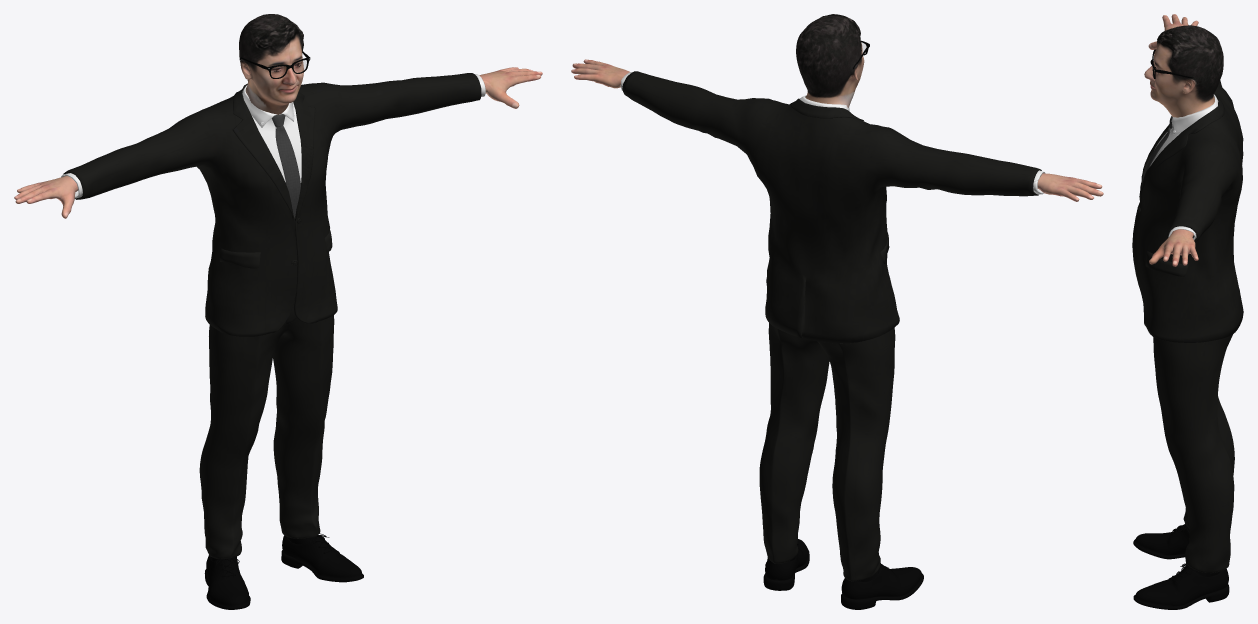
Rendered from alcalde_final.glb.
The picture shows the model from 3 angles, left to right: view 1: azimuth 30°, elevation 25°; view 2: azimuth 150°, elevation 25°; view 3: azimuth 270°, elevation 25°; orthographic projection. The views are drawn at different scales.
Visible parts, largest first — view 1: outfit.002; view 2: outfit.002; view 3: outfit.002.
Part boxes in pixels (box(x1,y1,x2,y2)): outfit.002: box(14, 14, 542, 609); outfit.002: box(571, 14, 1103, 609); outfit.002: box(1132, 14, 1243, 609).
Size of the model in its own units: 1.73 by 1.77 by 0.3246.
11 materials, 10 textured.
